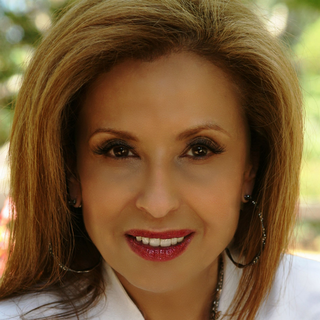eye: (174, 136, 225, 164), (94, 138, 144, 164)
